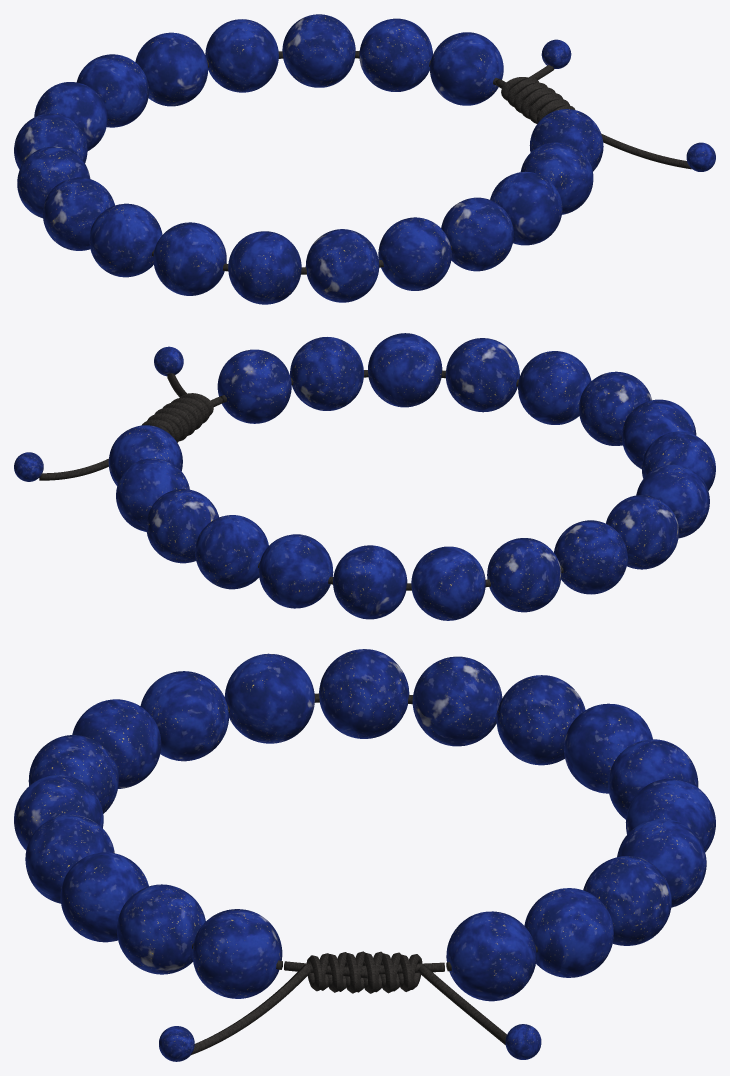
The model's file is lapis.glb.
3 views of the same model, one above another, from view 1: azimuth 30°, elevation 25°; view 2: azimuth 150°, elevation 25°; view 3: azimuth 270°, elevation 25° (orthographic). The views are drawn at different scales.
Visible parts, largest first — view 1: bead_round_0.004, bead_round_2, bead_round_1.004, bead_round_1, bead_round_0.001, bead_round_2.003, bead_round_2.004, bead_round_0, bead_round_1.003, bead_round_0.005, bead_round_1.001, bead_round_1.005 (+10 smaller); view 2: bead_round_0.002, bead_round_1.005, bead_round_1.002, bead_round_2.001, bead_round_1.001, bead_round_0.005, bead_round_2.005, bead_round_0.006, bead_round_2.002, bead_round_0.001, bead_round_2.004, bead_round_0.003 (+10 smaller); view 3: bead_round_0.003, bead_round_0.006, bead_round_0, bead_round_1.003, bead_round_2.002, bead_round_1, bead_round_2.005, bead_round_1.002, bead_round_2.003, bead_round_2, bead_round_1.005, bead_round_0.002 (+11 smaller).
Part boxes in pixels (x1,y1,x2,y2): bead_round_0.004: (228,231,301,304); bead_round_2: (282,14,355,87); bead_round_1.004: (305,229,379,302); bead_round_1: (359,18,432,91); bead_round_0.001: (205,19,278,92); bead_round_2.003: (153,222,226,295); bead_round_2.004: (378,217,451,290); bead_round_0: (430,32,503,105); bead_round_1.003: (89,203,162,277); bead_round_0.005: (441,197,513,271); bead_round_1.001: (135,32,208,106); bead_round_1.005: (490,171,562,245); bead_round_0.002: (411,546,485,620); bead_round_1.005: (368,333,442,407); bead_round_1.002: (487,538,561,612); bead_round_2.001: (333,545,407,619); bead_round_1.001: (258,534,333,608); bead_round_0.005: (445,338,519,412); bead_round_2.005: (290,337,363,410); bead_round_0.006: (217,349,291,423); bead_round_2.002: (554,520,627,594); bead_round_0.001: (195,515,268,589); bead_round_2.004: (518,351,591,424); bead_round_0.003: (606,495,678,569); bead_round_0.003: (319,649,409,738); bead_round_0.006: (192,909,282,998); bead_round_0: (446,911,536,1001); bead_round_1.003: (224,653,314,743); bead_round_2.002: (412,656,502,746); bead_round_1: (524,888,613,977); bead_round_2.005: (117,884,205,974); bead_round_1.002: (496,675,585,765); bead_round_2.003: (140,671,228,761); bead_round_2: (583,856,671,945); bead_round_1.005: (60,852,148,942); bead_round_0.002: (564,703,652,793).
Size of the model in its own units: 7.4 by 0.8024 by 6.24.
Materials: 4 (4 with a texture image).
